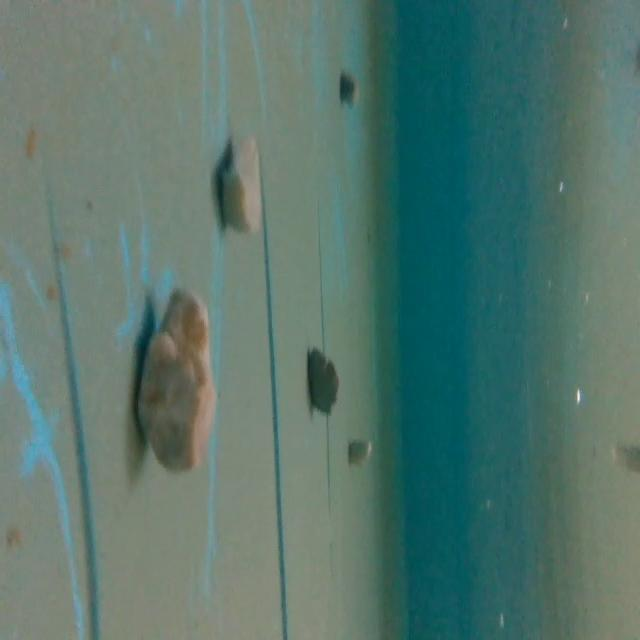rock: (135, 283, 221, 477), (218, 128, 270, 240), (306, 342, 342, 416), (348, 436, 372, 468), (338, 67, 357, 106)
